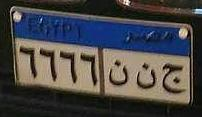6: (16, 42, 38, 82), (77, 50, 99, 85), (58, 48, 78, 85), (39, 46, 58, 83)
jeem: (160, 61, 186, 98)
noon: (106, 57, 129, 91), (134, 61, 157, 94)
